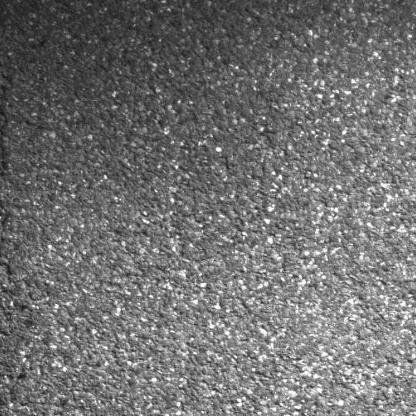Cracks: (0, 39, 19, 286)
